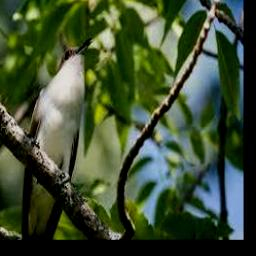Cuckoo: (23, 37, 94, 240)
